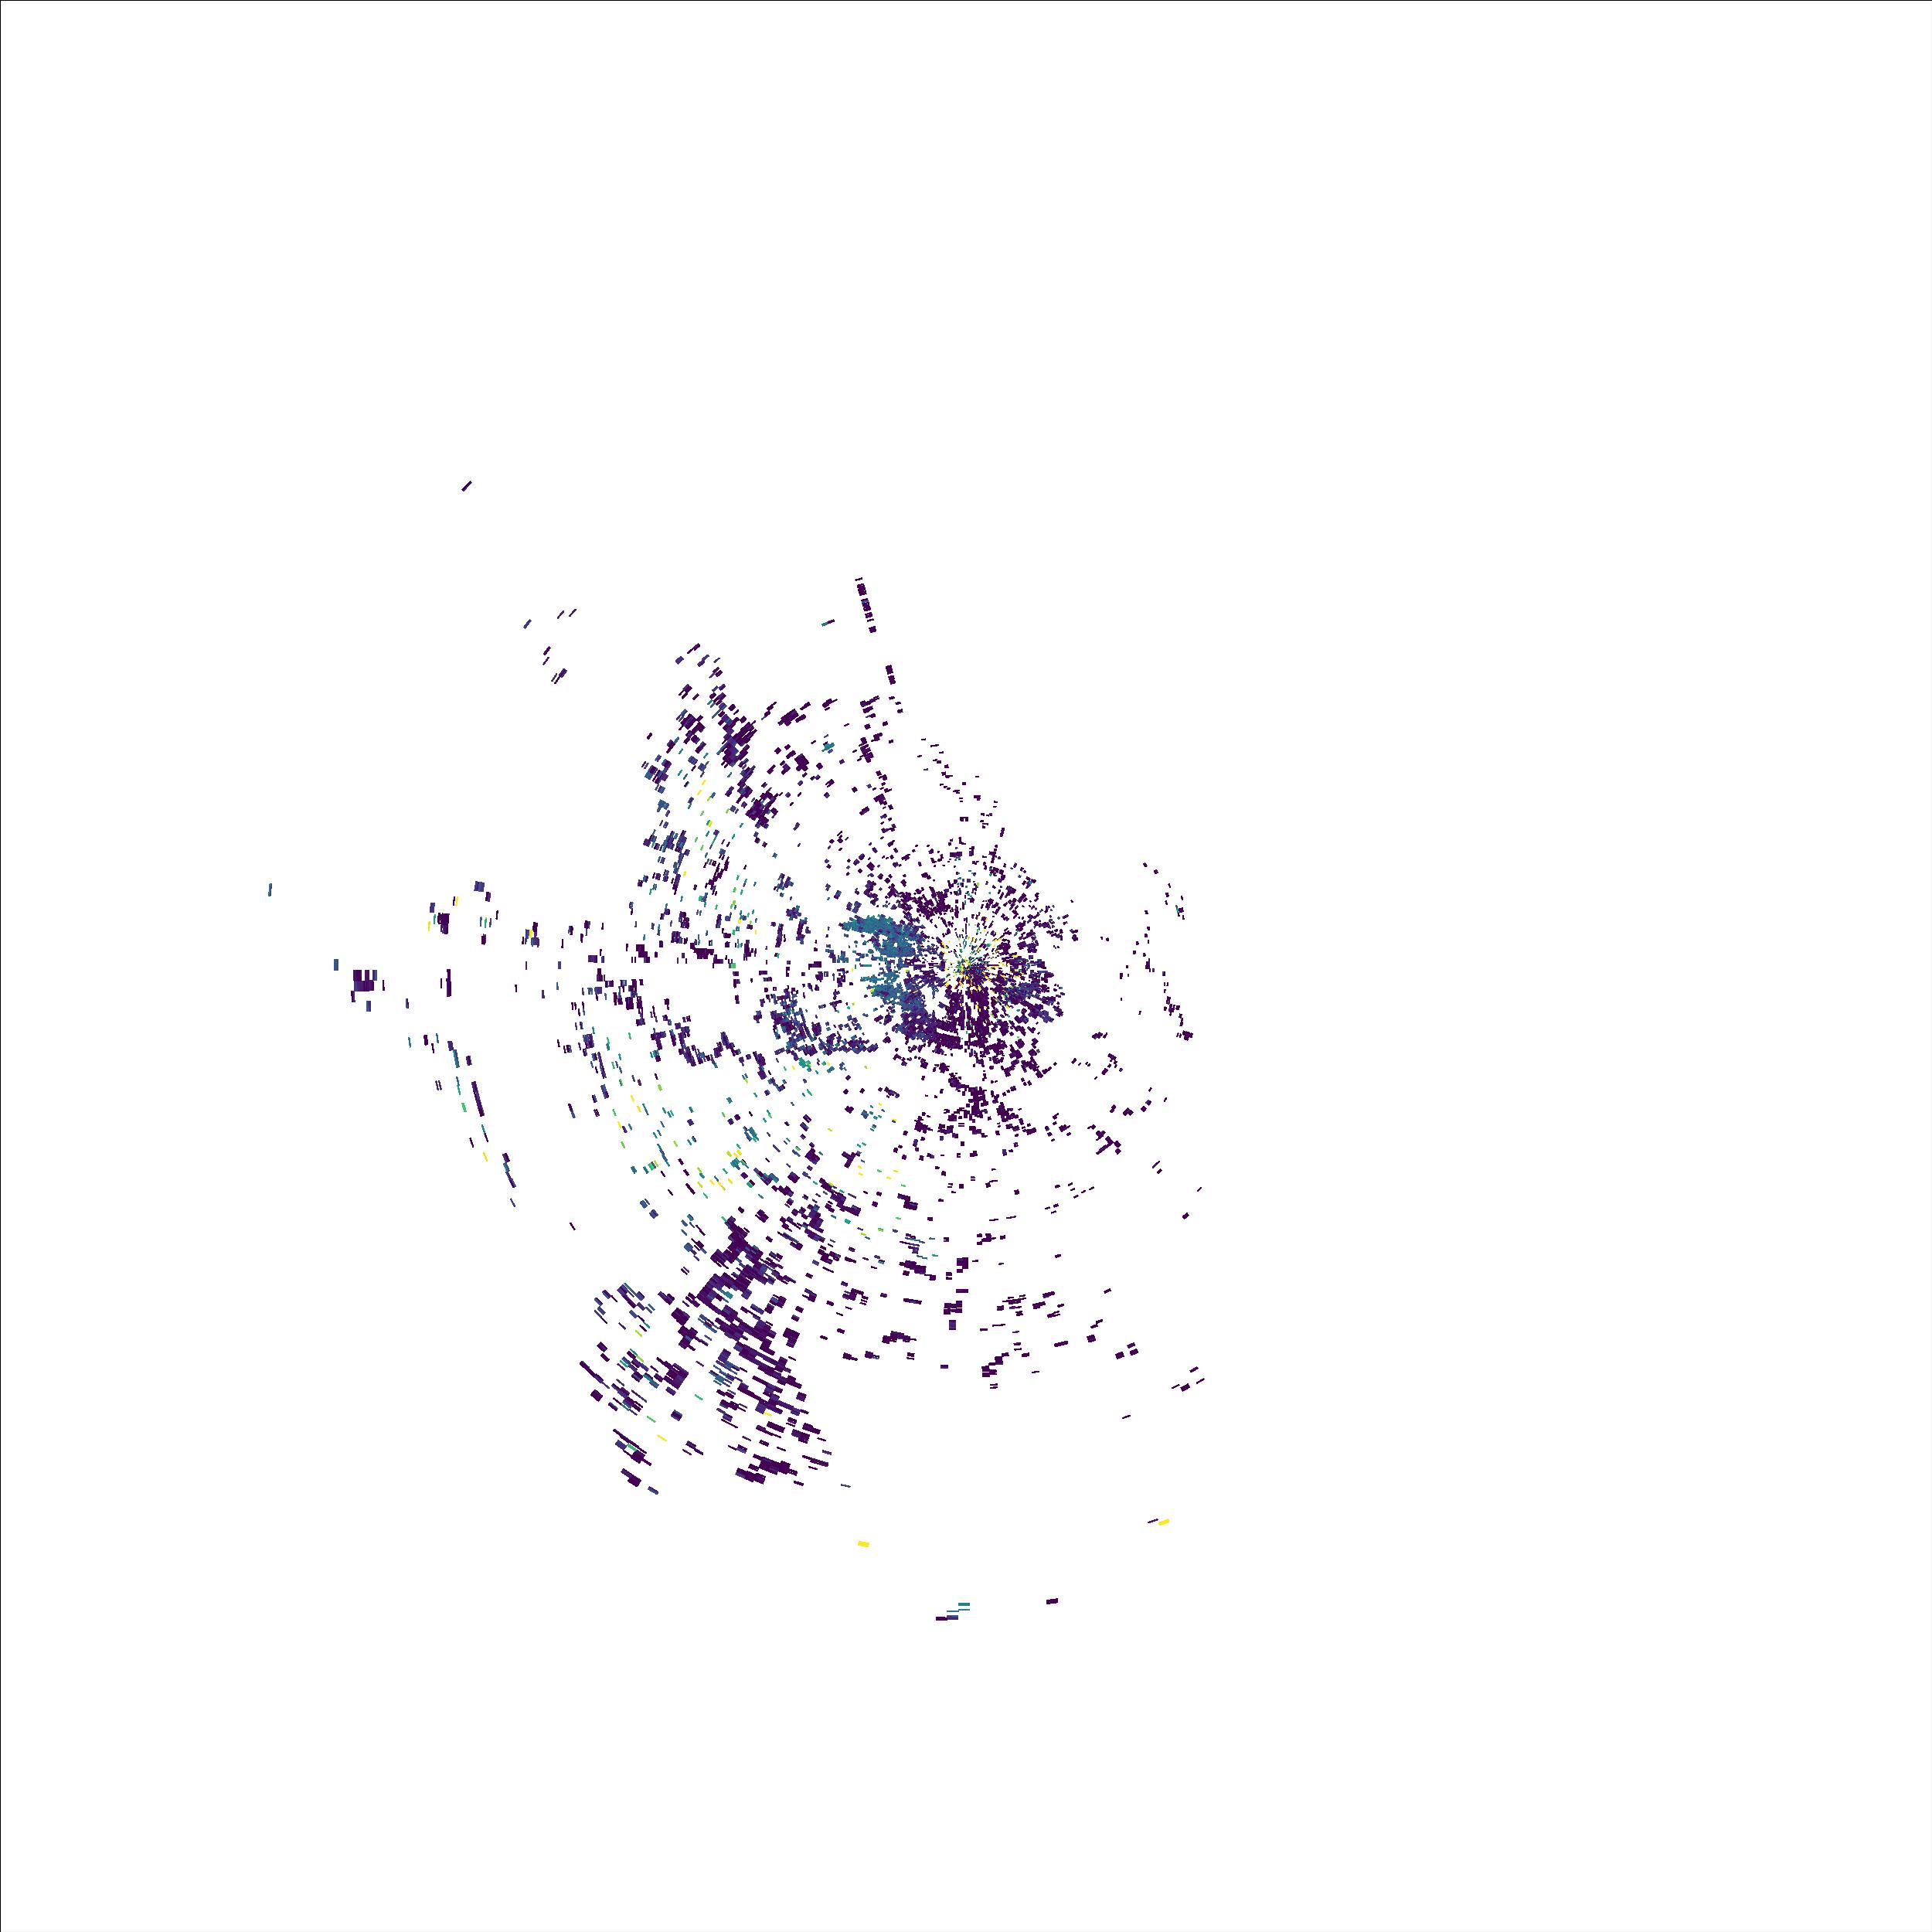fall: (817, 617, 840, 628)
